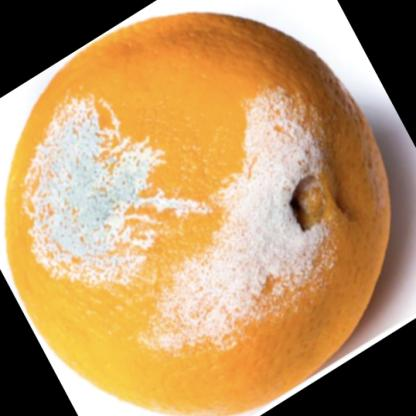rotten: (7, 13, 391, 413)
